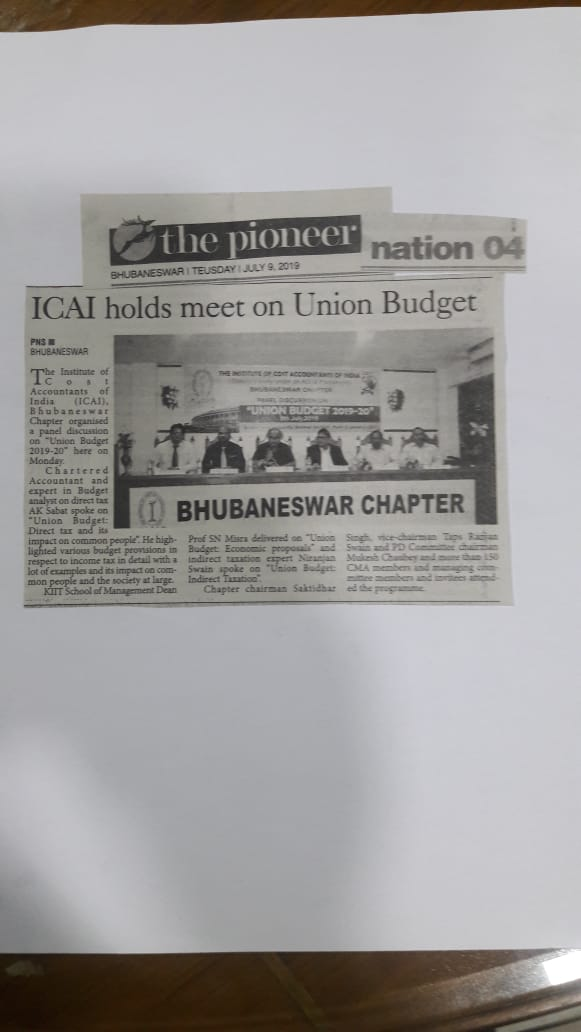news_paper: (14, 142, 570, 654)
